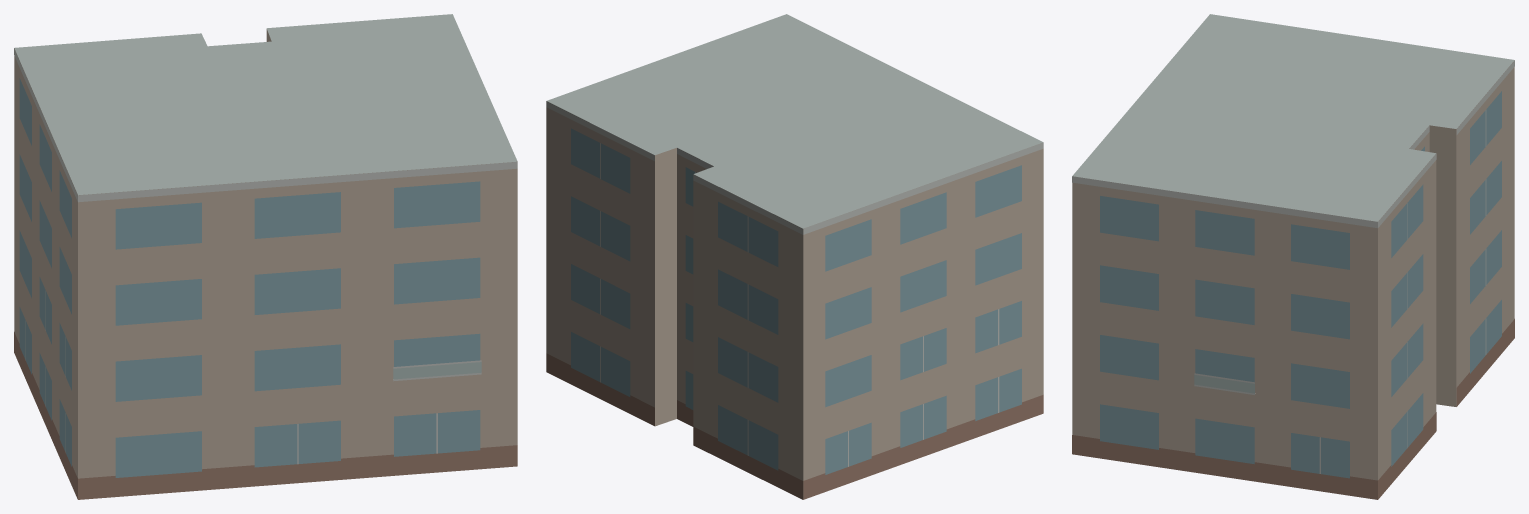
The model's file is survey-upis-32698097.glb.
3 views of the same model, side by side, from view 1: azimuth 30°, elevation 25°; view 2: azimuth 150°, elevation 25°; view 3: azimuth 270°, elevation 25° (orthographic). The views are drawn at different scales.
Visible parts, largest first — view 1: survey-upis-32698097.tmp; view 2: survey-upis-32698097.tmp; view 3: survey-upis-32698097.tmp.
Part boxes in pixels (box(x1,y1,x2,y2)): survey-upis-32698097.tmp: box(14, 14, 517, 499); survey-upis-32698097.tmp: box(546, 14, 1043, 499); survey-upis-32698097.tmp: box(1072, 14, 1514, 499).
Size of the model in its own units: 16.92 by 10.55 by 15.23.
